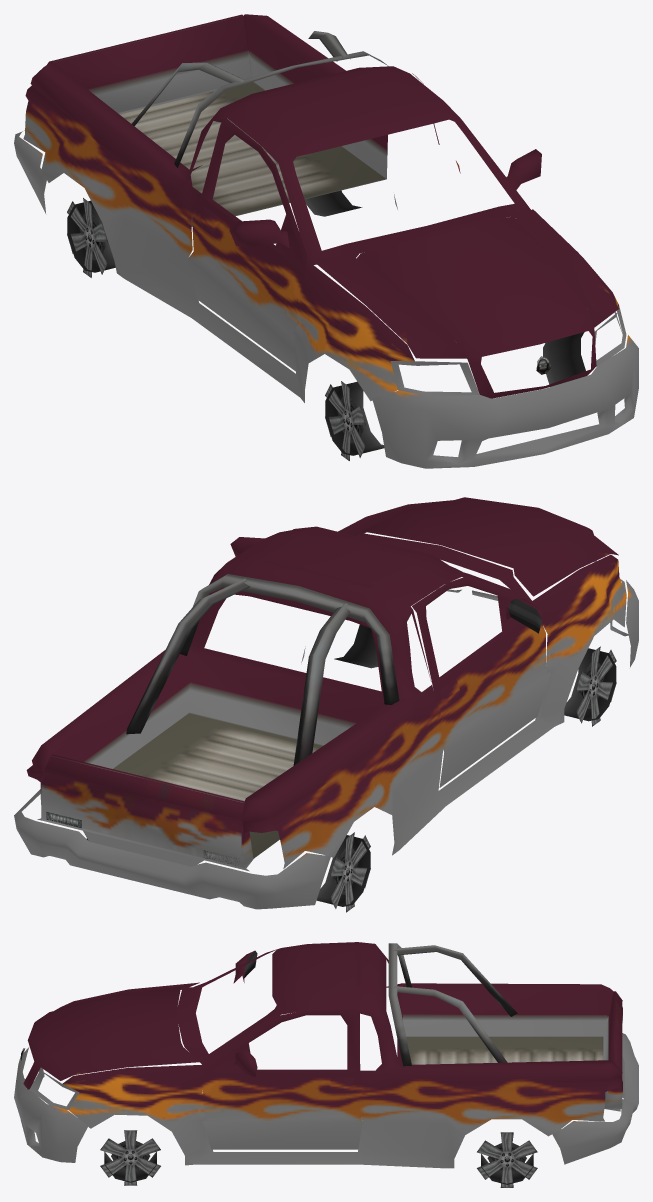
File: car-CUPE_Car12.glb
The picture shows the model from 3 angles, top to bottom: view 1: azimuth 30°, elevation 25°; view 2: azimuth 150°, elevation 25°; view 3: azimuth 270°, elevation 25°; orthographic projection. The views are drawn at different scales.
Parts seen in each view (by area): view 1: CUPE_Car12; view 2: CUPE_Car12; view 3: CUPE_Car12.
Boxes of the visible parts, bbox=[...] form: CUPE_Car12: bbox=[14, 14, 638, 468]; CUPE_Car12: bbox=[14, 497, 638, 912]; CUPE_Car12: bbox=[14, 942, 638, 1187].
Size of the model in its own units: 2.25 by 1.61 by 5.22.
11 materials, 11 textured.
